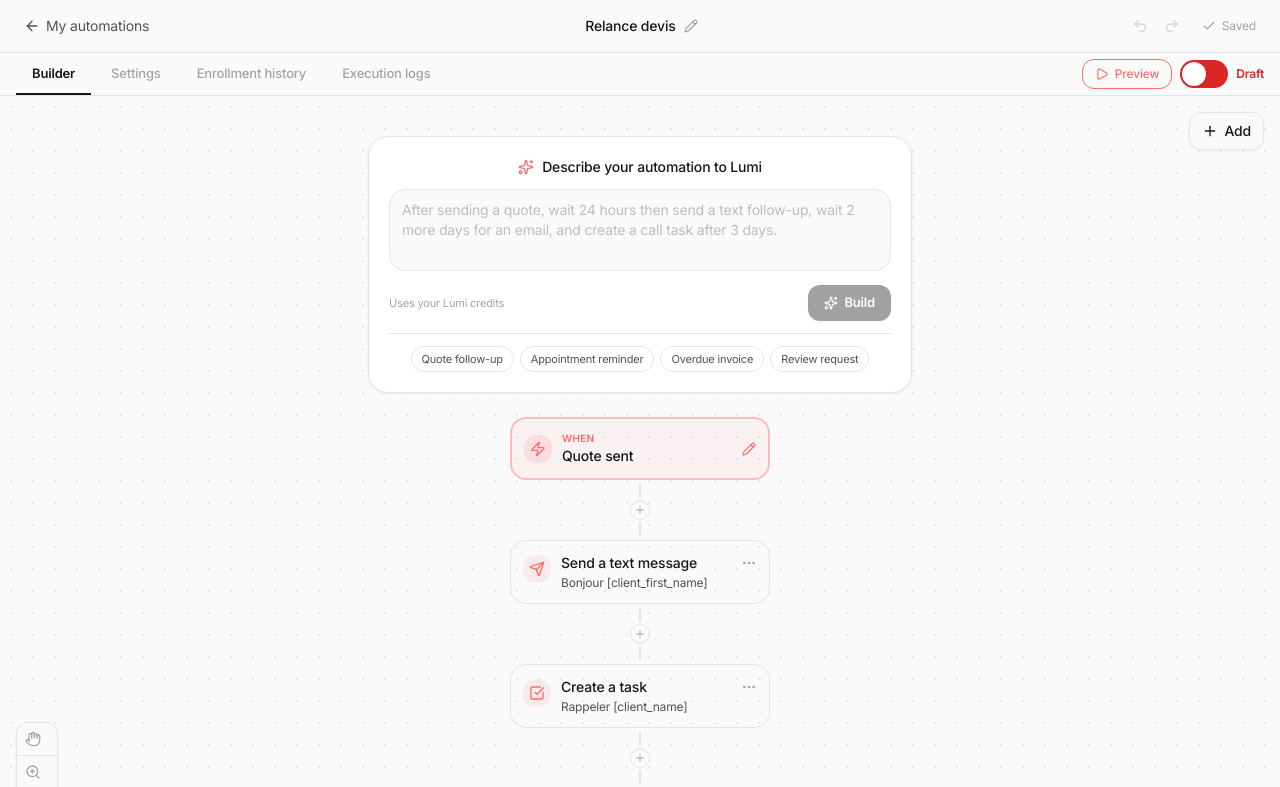
it: actions-07 — l’automatisation a été supprimée pendant que l’éditeur est ouvert › en anglais
Step 1. Click the button "When Quote sent" → (578, 438), box [510, 417, 770, 480]
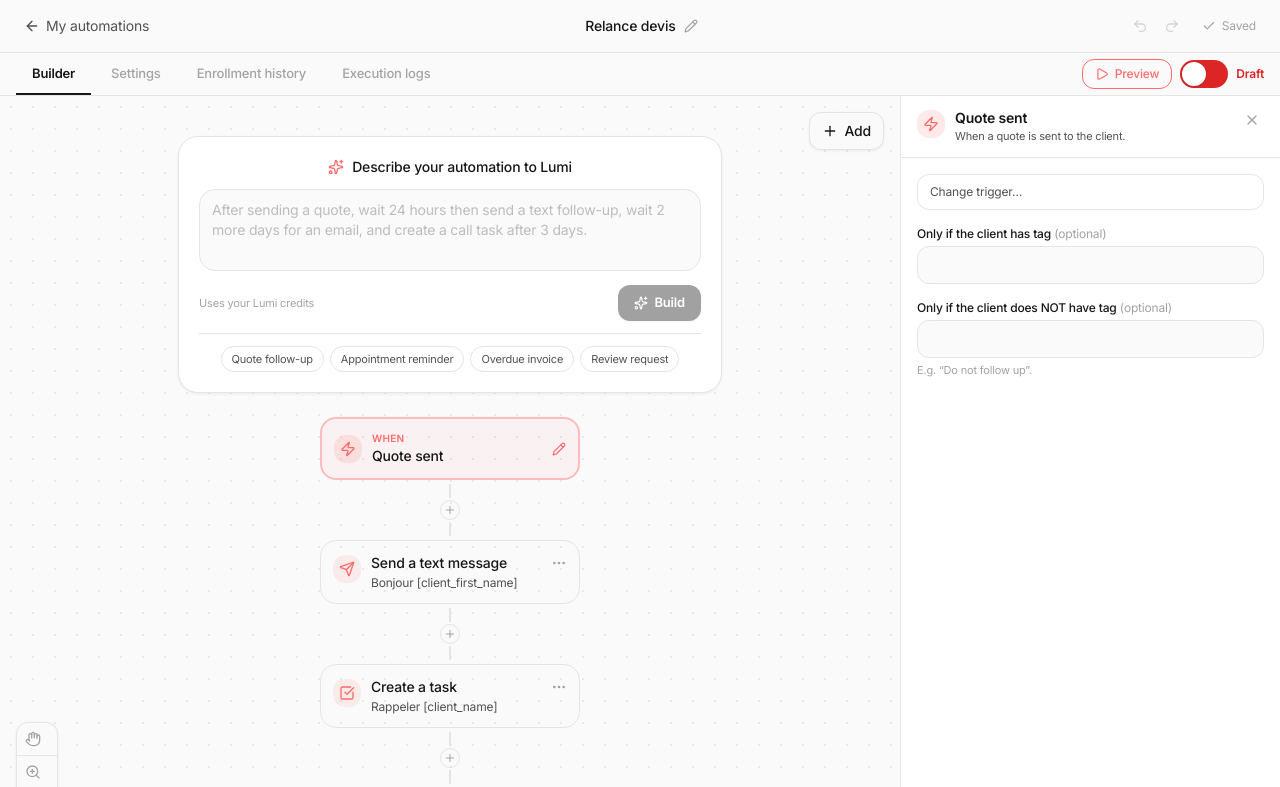
Step 2. Click the button "Change trigger…" → (976, 191), box [917, 174, 1264, 210]
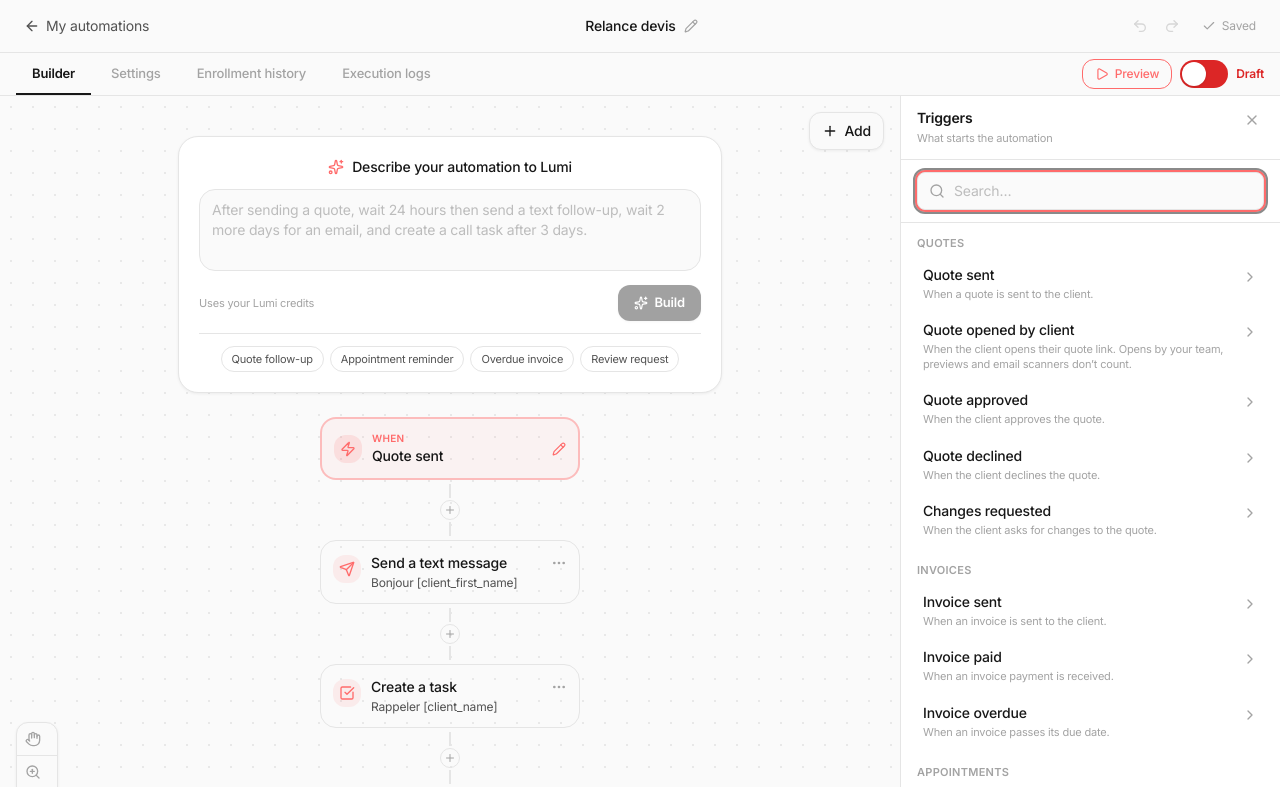
Step 3. Click the button "Invoice sent When an invoice is sent to the client." → (962, 602), box [913, 584, 1268, 637]
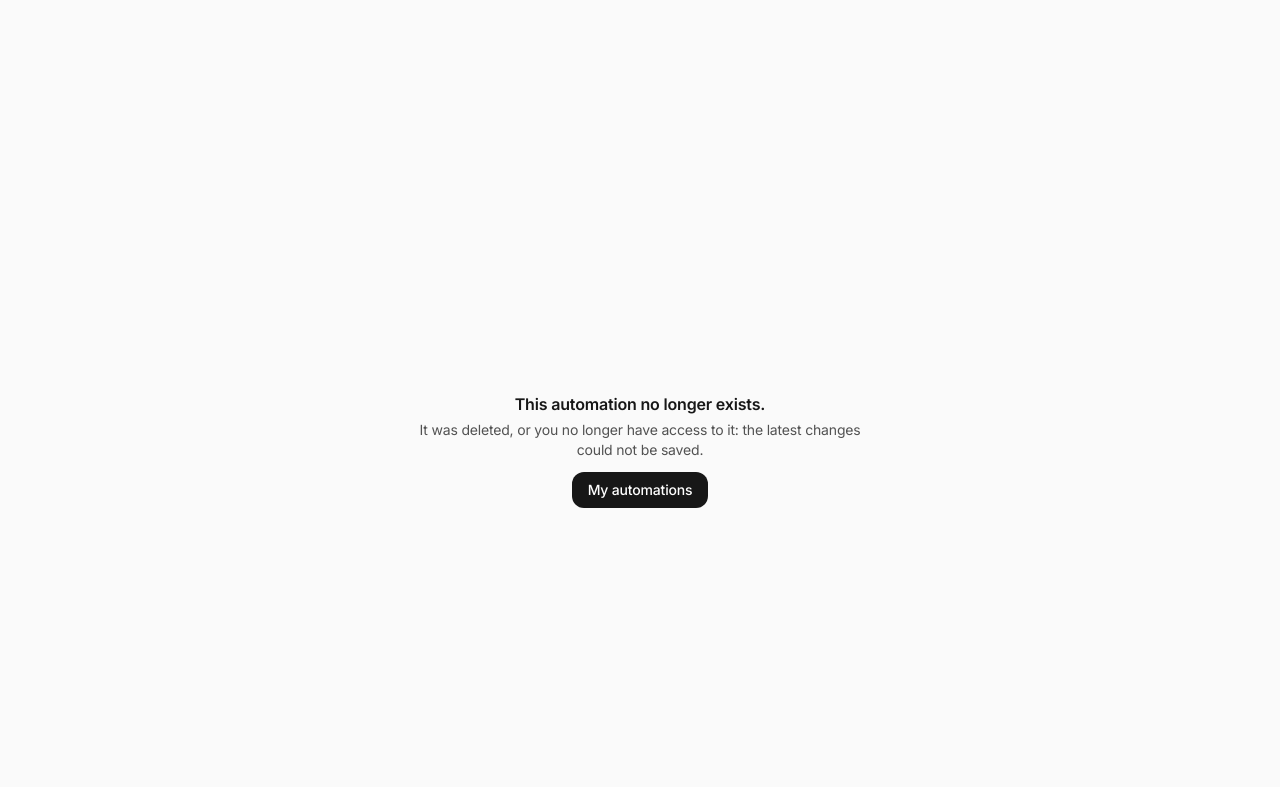
Expected: the button "My automations" is shown, [572, 472, 708, 508]
Result: the text "This automation no longer exists." is shown at [515, 394, 765, 414]
